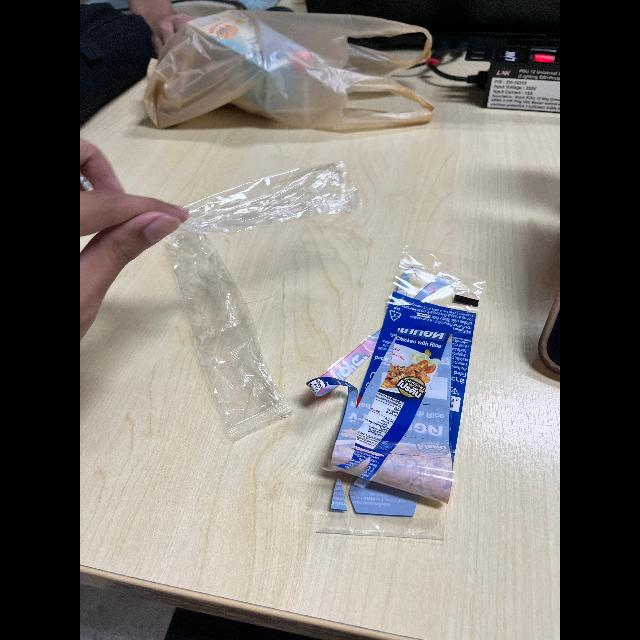scrap_plastic: (301, 242, 497, 556), (156, 221, 294, 447), (161, 154, 365, 250)
